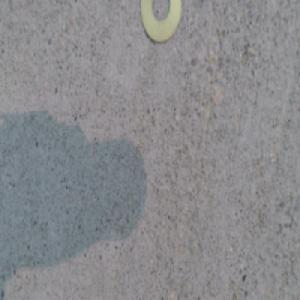Washer: (140, 0, 181, 43)
